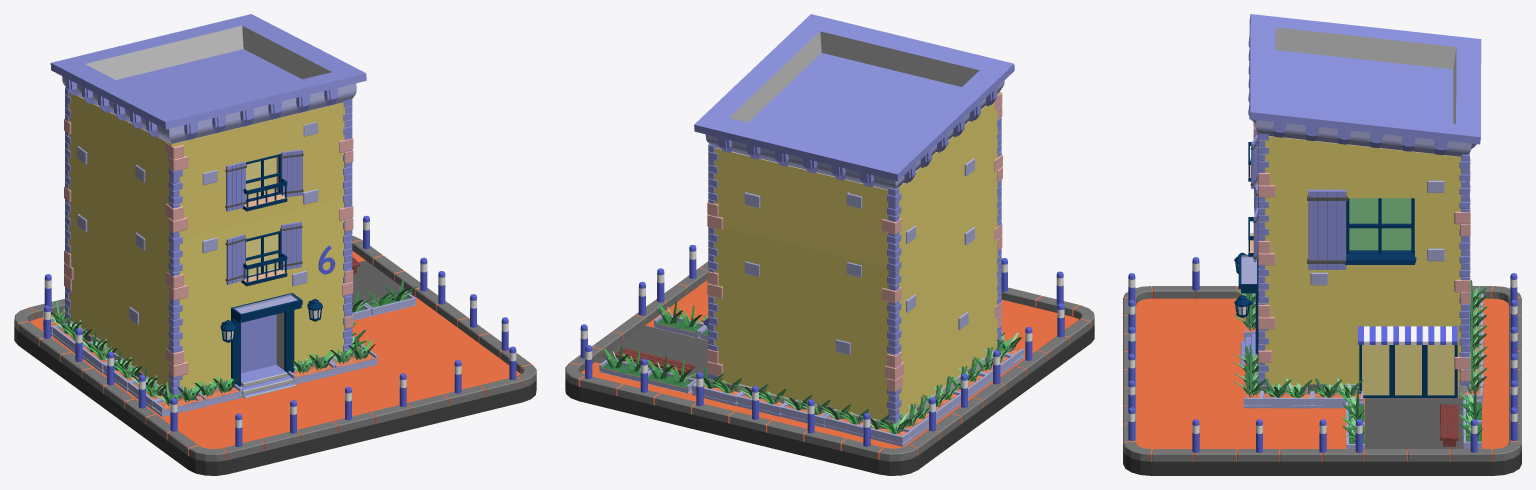
The model's file is lv2_house_4.fbx.
3 renders of one model, left to right at view 1: azimuth 30°, elevation 25°; view 2: azimuth 150°, elevation 25°; view 3: azimuth 270°, elevation 25°, orthographic.
Parts seen in each view (by area): view 1: lv2_house_4, basehouse_lv2_4, fence_lv2_L_4; view 2: lv2_house_4, basehouse_lv2_4, fence_lv2_R_4, fence_lv2_L_4, bench_lv2_4; view 3: lv2_house_4, basehouse_lv2_4, fence_lv2_R_4, fence_lv2_L_4, bench_lv2_4.
Part boxes in pixels (x1,y1,x2,y2): lv2_house_4: (43,14,377,416); basehouse_lv2_4: (14,215,536,475); fence_lv2_L_4: (352,280,416,320); lv2_house_4: (691,14,1023,446); basehouse_lv2_4: (565,245,1094,475); fence_lv2_R_4: (599,345,696,393); fence_lv2_L_4: (654,301,708,340); bench_lv2_4: (615,348,695,375); lv2_house_4: (1233,14,1487,408); basehouse_lv2_4: (1123,257,1521,475); fence_lv2_R_4: (1459,386,1482,448); fence_lv2_L_4: (1342,388,1365,449); bench_lv2_4: (1440,404,1458,446).
Bounding box in the file's own units: 3052 × 2586 × 3052.
